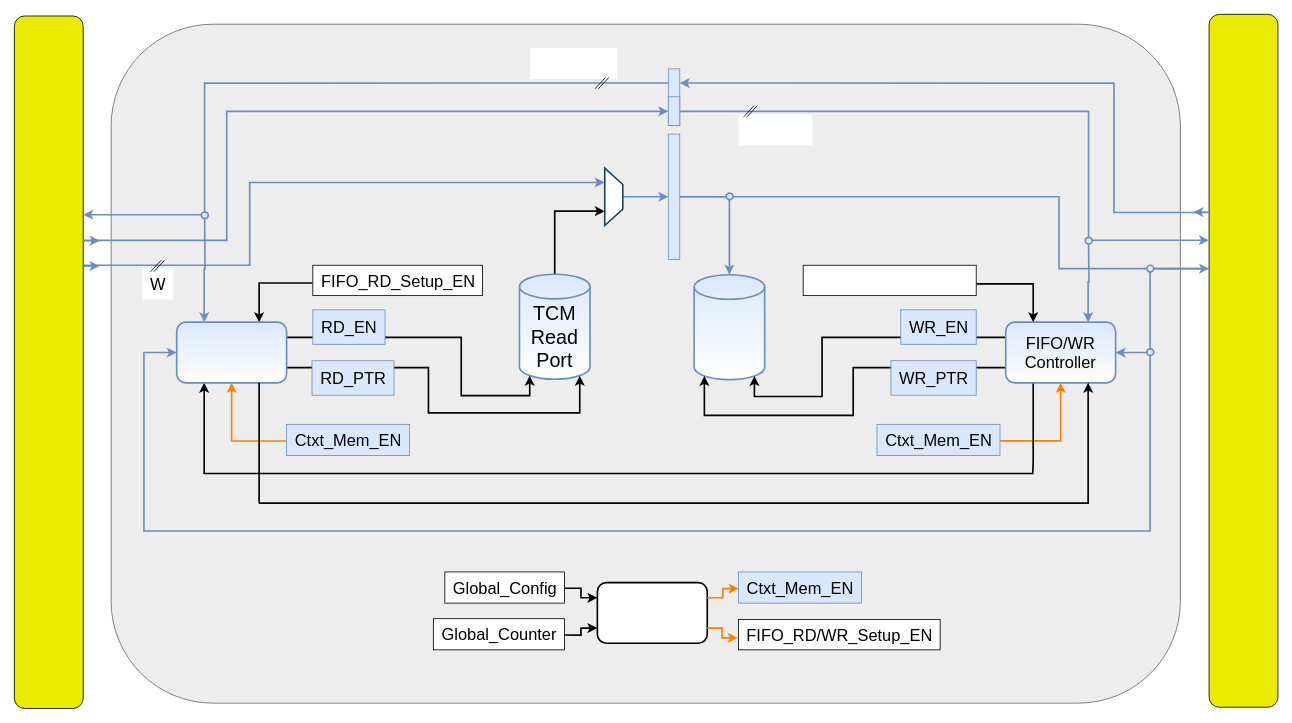
This 1292x723 diagram has some shape labels left out. Each missing label, with the centre of its shape:
"1 Valid" belongs at [775,129].
"FIFO/RD Controller" belongs at [231,352].
"FIFO_WR_Setup_EN" belongs at [889,280].
"Local Controller" belongs at [652,612].
"Ready 1" belongs at [573,63].
"TCM Write Port" belongs at [729,326].
